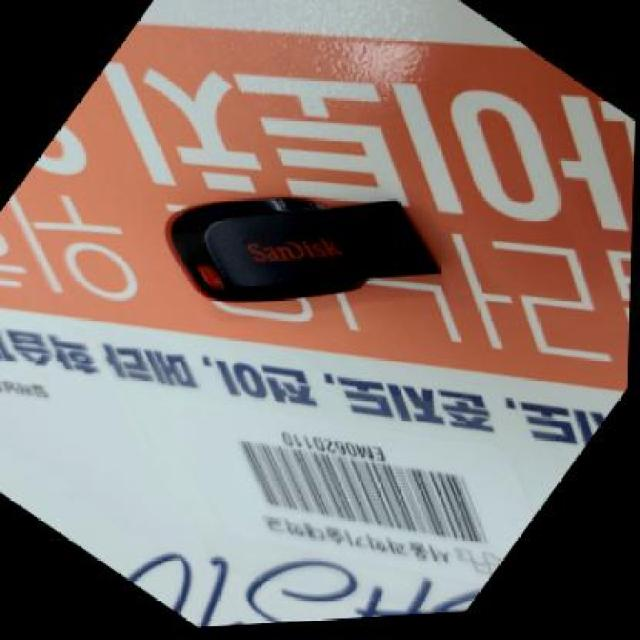Flashdisk: (136, 90, 473, 416)
